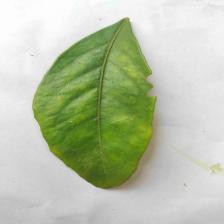greening: (24, 73, 160, 193)
